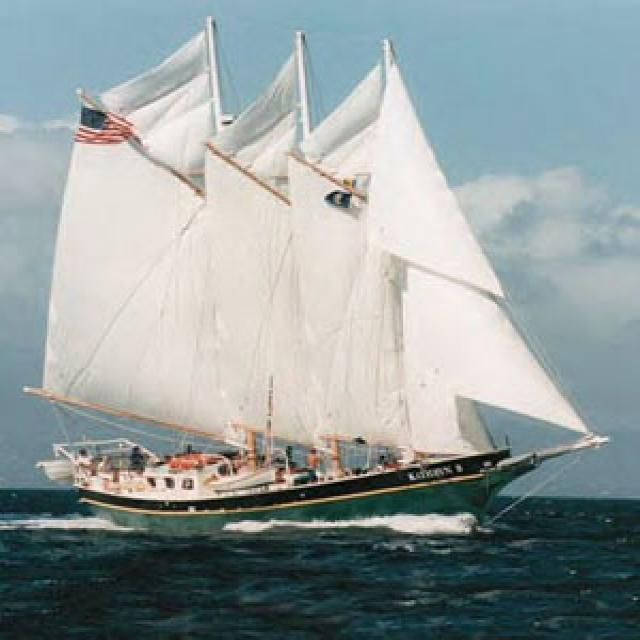Ship: (30, 29, 603, 539)
